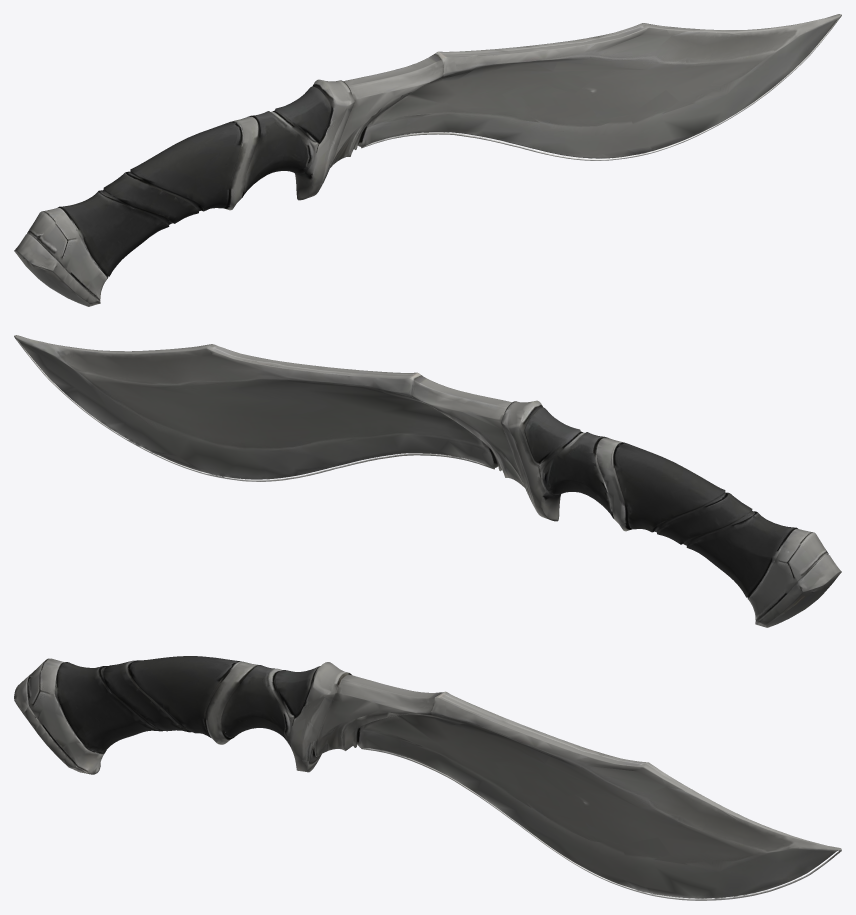
The model's file is knife_saber.glb.
3 views of the same model, one above another, from view 1: azimuth 30°, elevation 25°; view 2: azimuth 150°, elevation 25°; view 3: azimuth 330°, elevation 25° (orthographic).
Visible parts, largest first — view 1: knife_mesh; view 2: knife_mesh; view 3: knife_mesh.
Boxes of the visible parts, x1=… form: knife_mesh: x1=14, y1=14, x2=841, y2=306; knife_mesh: x1=14, y1=335, x2=841, y2=627; knife_mesh: x1=14, y1=656, x2=841, y2=900.
Bounding box in the file's own units: 1.2 × 0.2307 × 0.0752.
1 material, 1 textured.
